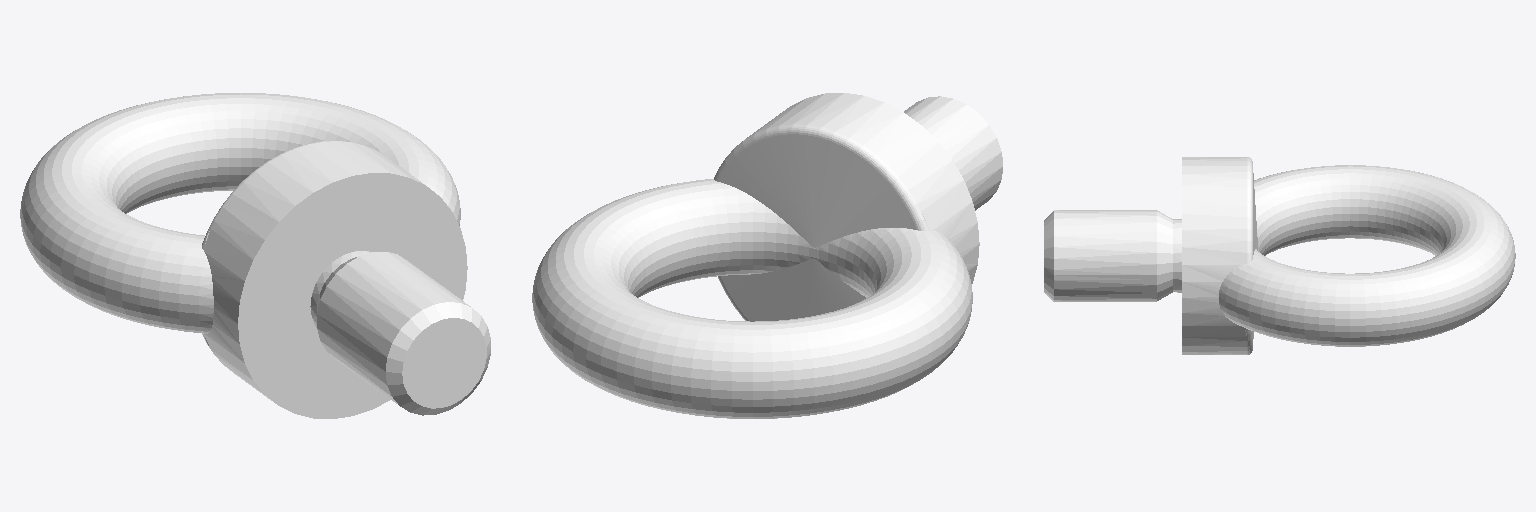
robot.urdf — model.urdf:
<?xml version="0.0" ?>
<robot name="model.urdf">
  <link name="baseLink">
    <contact>
      <lateral_friction value="0.8"/>
      <rolling_friction value="0.001"/>g
      <contact_cfm value="0.0"/>
      <contact_erp value="1.0"/>
    </contact>
    <inertial>
    <origin rpy="0 0 0" xyz="0.01 0.0 0.01"/>
       <mass value=".66"/>
       <inertia ixx="1e-3" ixy="0" ixz="0" iyy="1e-3" iyz="0" izz="1e-3"/>
    </inertial>
    <visual>
      <geometry>
        <mesh filename="IPARing.obj" scale="1 1 1"/>
      </geometry>
      <material name="white">
        <color rgba="1. 1. 1. 1."/>
      </material>
    </visual>
    <collision>
      <geometry>
    	 	<!-- <mesh filename="totebox_600x400x212-refine_Pocket.stl" scale="0.001 0.001 0.001"/> -->
        <mesh filename="IPARing_collision.obj" scale="0.95 0.95 0.95"/>
      </geometry>
    </collision>
  </link>
</robot>

--- Facts derived from the render (not from the file) ---
The picture shows the robot from 3 angles, left to right: view 1: azimuth 30°, elevation 25°; view 2: azimuth 150°, elevation 25°; view 3: azimuth 270°, elevation 25°; orthographic projection.
Robot: model.urdf — 1 links, 0 joints (none); root link baseLink; default pose: every joint at zero.
Links seen in each view (by area): view 1: baseLink; view 2: baseLink; view 3: baseLink.
Boxes of the visible links, x1=… form: baseLink: x1=20, y1=93, x2=490, y2=418; baseLink: x1=532, y1=93, x2=1002, y2=418; baseLink: x1=1044, y1=157, x2=1515, y2=354.
Bounding box of the posed robot: 0.108 × 0.1539 × 0.065 m (x, y, z).
Meshes: 1 distinct files referenced, 1 mesh visuals loaded (1 OBJ).